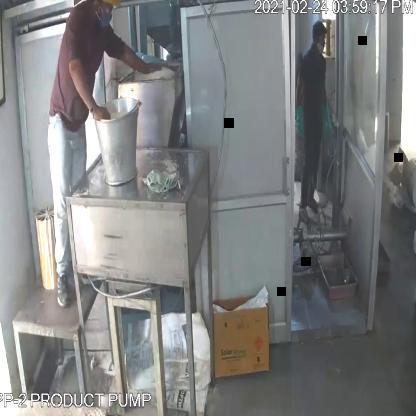helmet: (88, 0, 122, 13)
